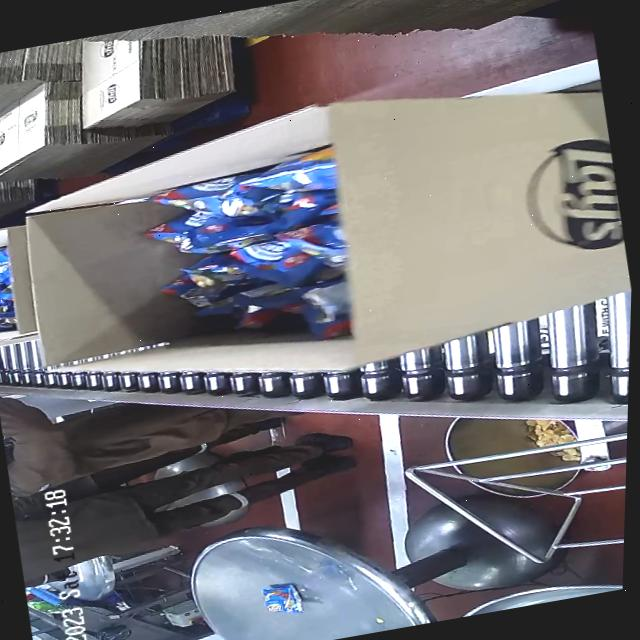PAPRIKA: (108, 152, 349, 372)
